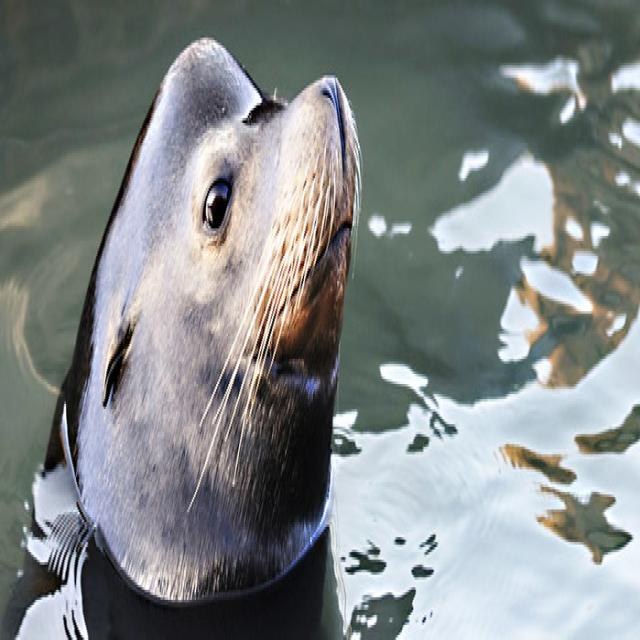WaterDog: (64, 22, 376, 590)
